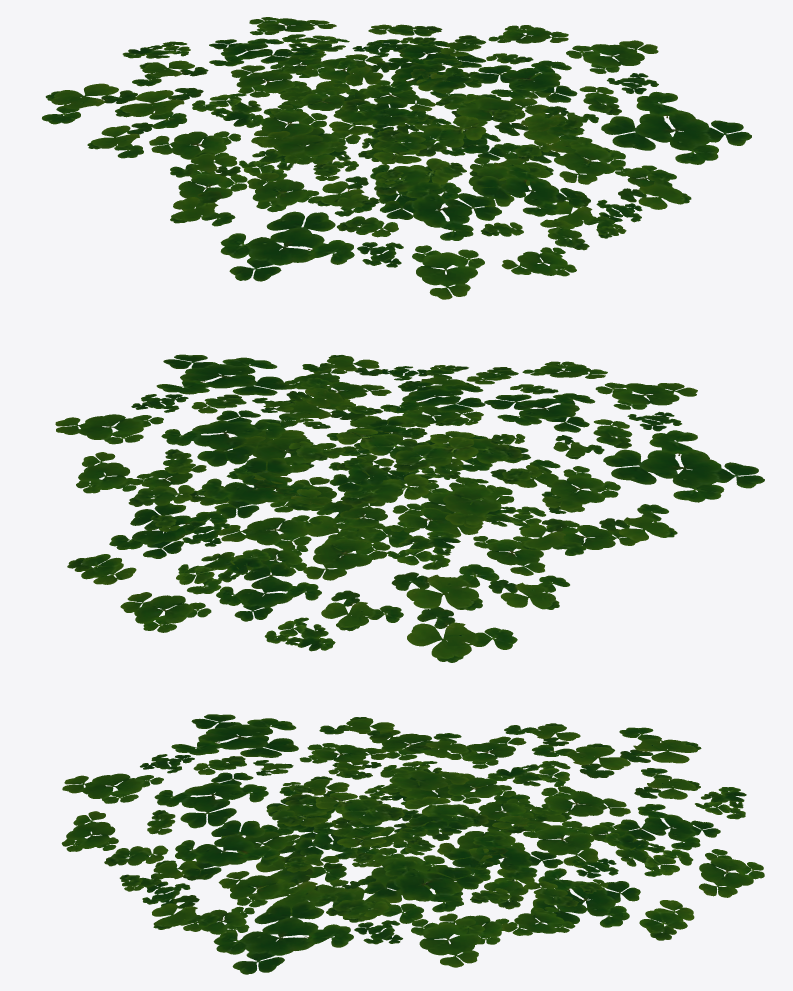
3 renders of one model, top to bottom at view 1: azimuth 30°, elevation 25°; view 2: azimuth 150°, elevation 25°; view 3: azimuth 270°, elevation 25°, orthographic. The views are drawn at different scales.
Parts seen in each view (by area): view 1: SM_BM_Sorrel_01_A_LOD0; view 2: SM_BM_Sorrel_01_A_LOD0; view 3: SM_BM_Sorrel_01_A_LOD0.
Boxes of the visible parts, bbox=[...] form: SM_BM_Sorrel_01_A_LOD0: bbox=[42, 17, 751, 299]; SM_BM_Sorrel_01_A_LOD0: bbox=[55, 354, 764, 662]; SM_BM_Sorrel_01_A_LOD0: bbox=[61, 714, 764, 974].
Size of the model in its own units: 1.2 by 0.1006 by 1.31.
Materials: 1 (1 with a texture image).
